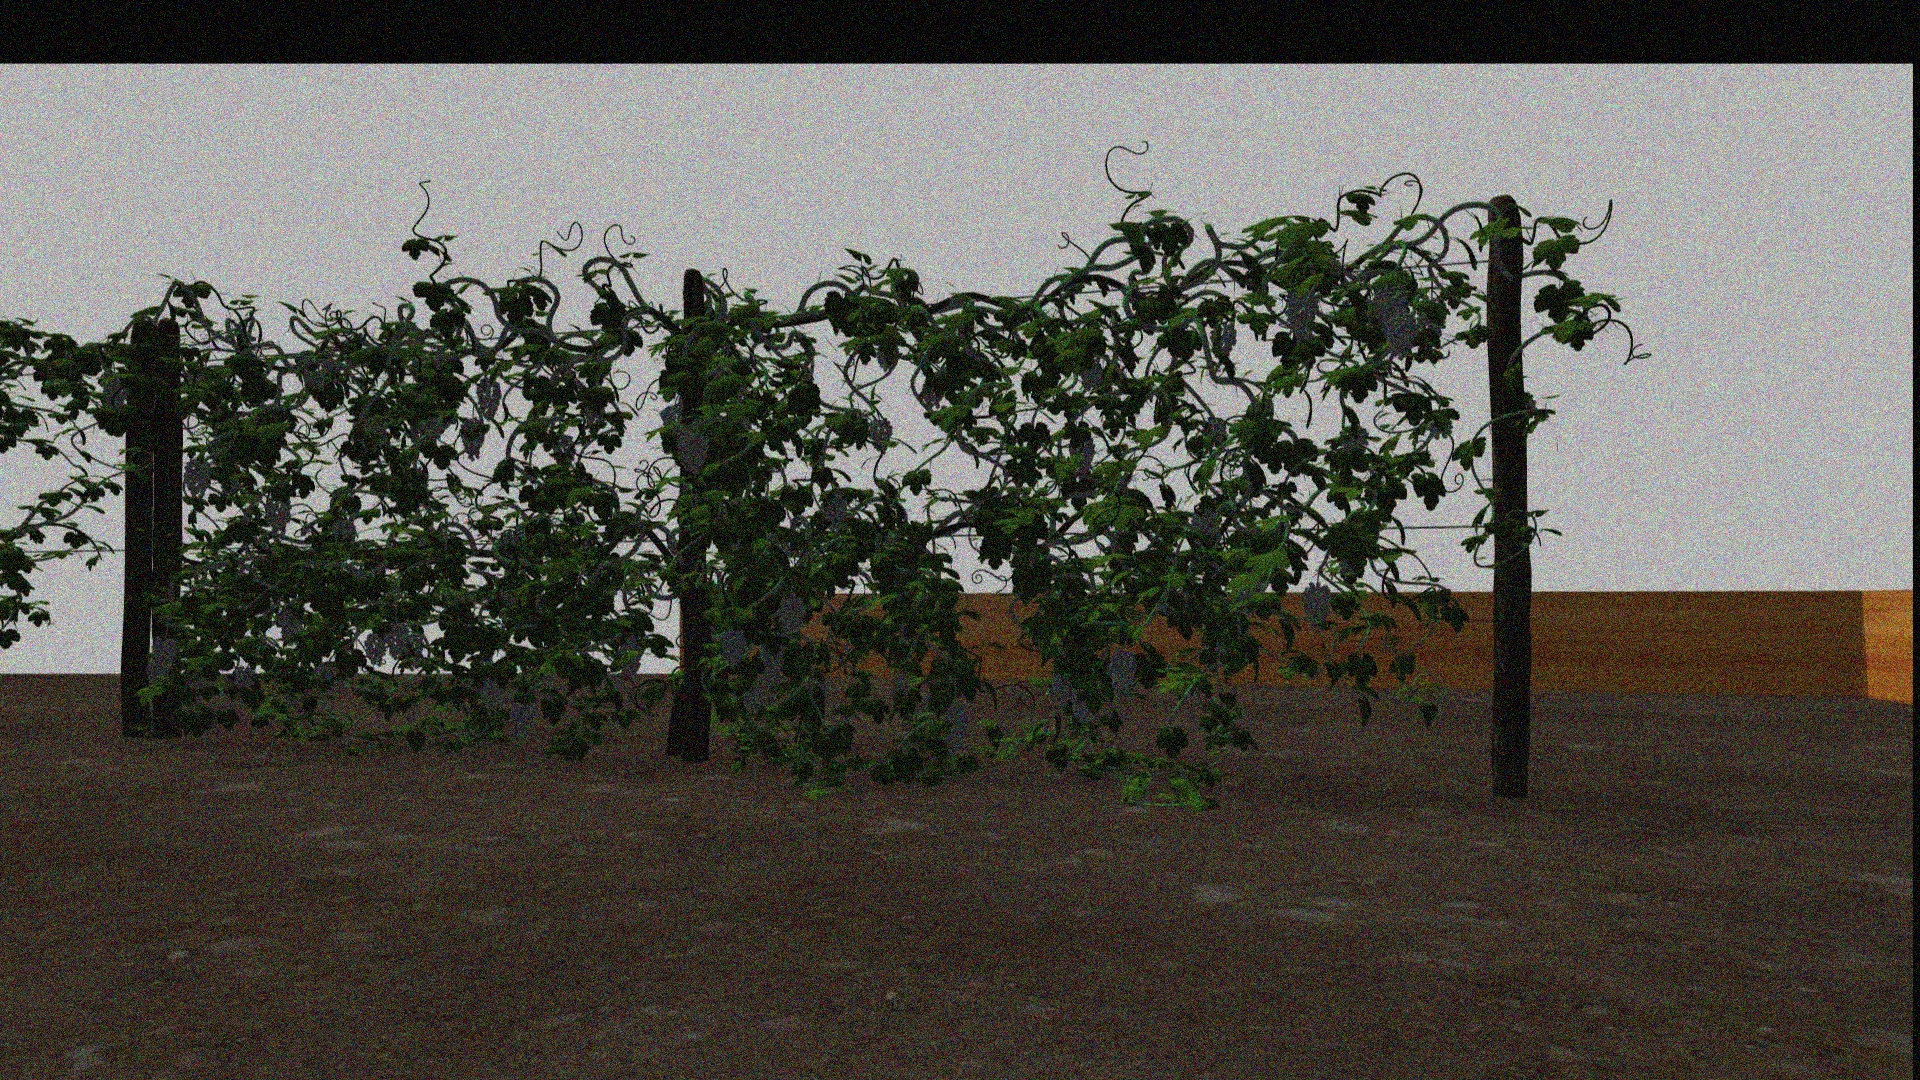grape: (1283, 287, 1317, 340), (676, 425, 709, 473), (1371, 280, 1407, 323), (1302, 582, 1332, 632), (1106, 647, 1135, 694), (617, 632, 644, 680), (775, 595, 806, 637), (717, 626, 746, 669), (473, 377, 502, 419), (1189, 509, 1221, 547), (943, 705, 971, 749), (183, 458, 212, 498), (758, 644, 785, 687), (506, 703, 535, 742), (1386, 313, 1414, 353), (1067, 436, 1096, 475), (262, 495, 291, 533), (476, 678, 502, 717), (460, 417, 484, 460), (1209, 320, 1237, 357), (274, 607, 302, 644), (99, 376, 131, 407), (822, 491, 848, 527), (384, 622, 410, 658), (150, 636, 179, 667), (1340, 425, 1369, 454), (868, 417, 894, 448), (1079, 359, 1104, 392), (363, 632, 386, 666), (1069, 688, 1092, 723), (1048, 671, 1073, 702), (1203, 414, 1226, 444), (229, 666, 257, 690), (740, 688, 765, 713), (313, 661, 339, 684), (658, 404, 682, 427), (891, 671, 910, 696), (145, 665, 167, 683)
